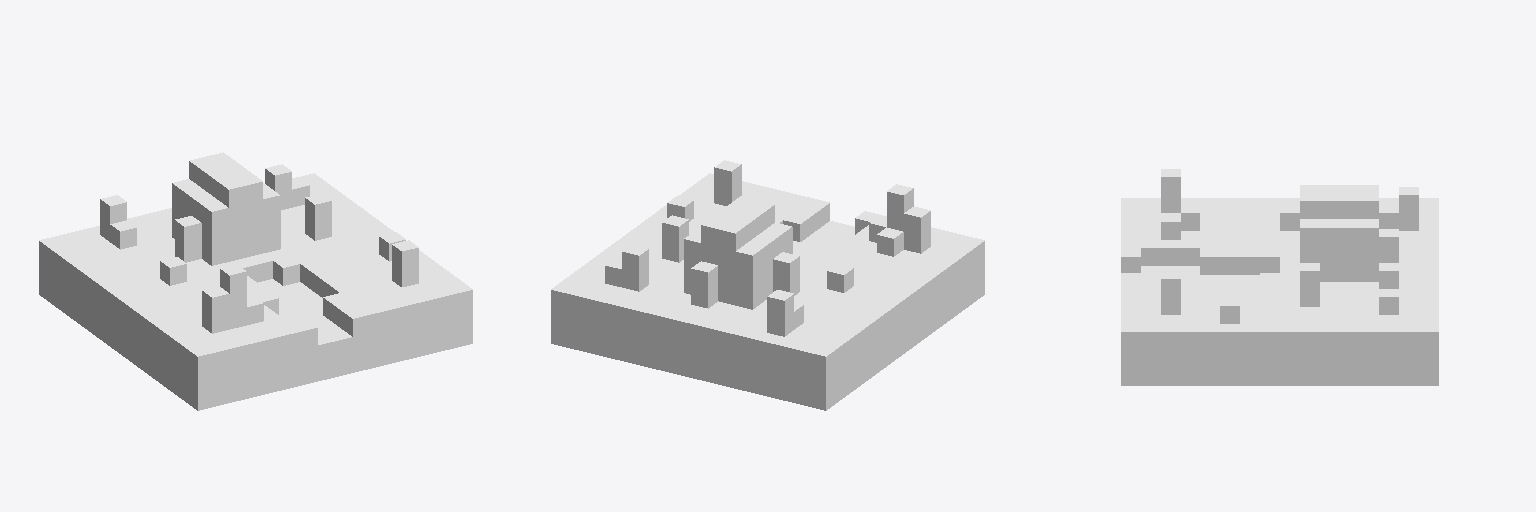
The model's file is bace.obj.
3 views of the same model, side by side, from view 1: azimuth 30°, elevation 25°; view 2: azimuth 150°, elevation 25°; view 3: azimuth 270°, elevation 25° (orthographic).
Visible parts, largest first — view 1: CaveBace; view 2: CaveBace; view 3: CaveBace.
Boxes of the visible parts, x1=… form: CaveBace: x1=39, y1=152, x2=472, y2=410; CaveBace: x1=551, y1=160, x2=984, y2=410; CaveBace: x1=1121, y1=169, x2=1438, y2=385.
Bounding box in the file's own units: 16 × 7 × 16.